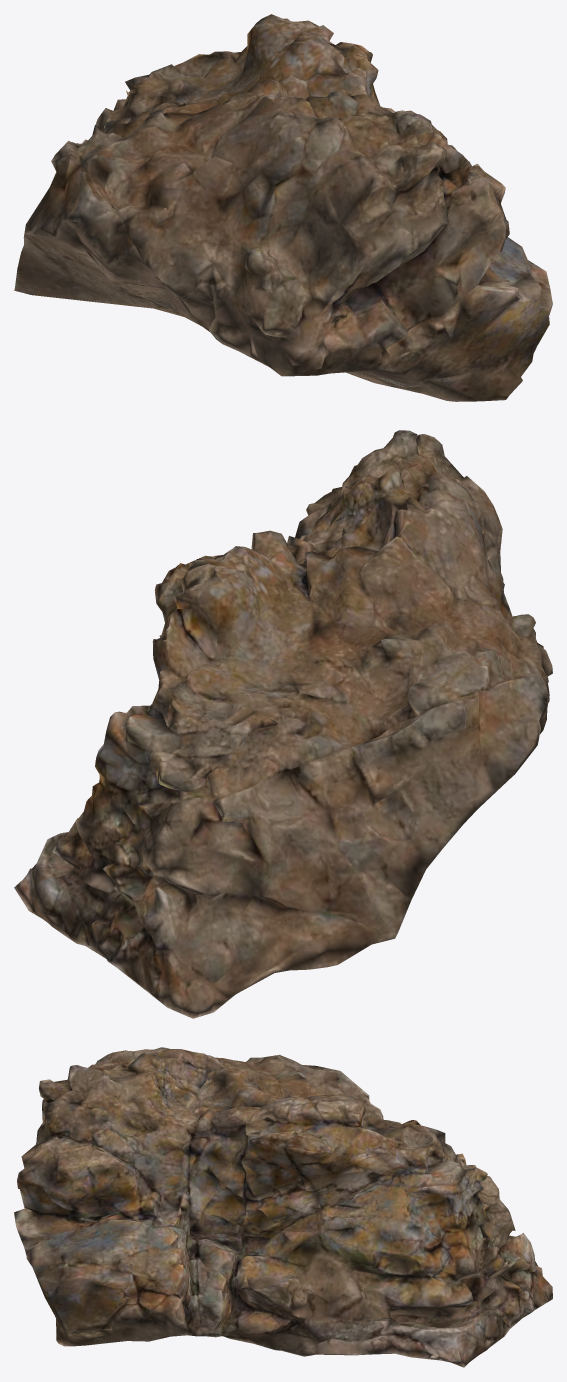
File: rock1.glb
The picture shows the model from 3 angles, top to bottom: view 1: azimuth 30°, elevation 25°; view 2: azimuth 150°, elevation 25°; view 3: azimuth 270°, elevation 25°; orthographic projection. The views are drawn at different scales.
Parts seen in each view (by area): view 1: boulder_01; view 2: boulder_01; view 3: boulder_01.
Boxes of the visible parts, x1,y1,x2,y2 form: boulder_01: (14, 14, 552, 401); boulder_01: (14, 430, 552, 1018); boulder_01: (14, 1047, 552, 1367).
Size of the model in its own units: 1.27 by 1 by 1.82.
Materials: 1 (1 with a texture image).
